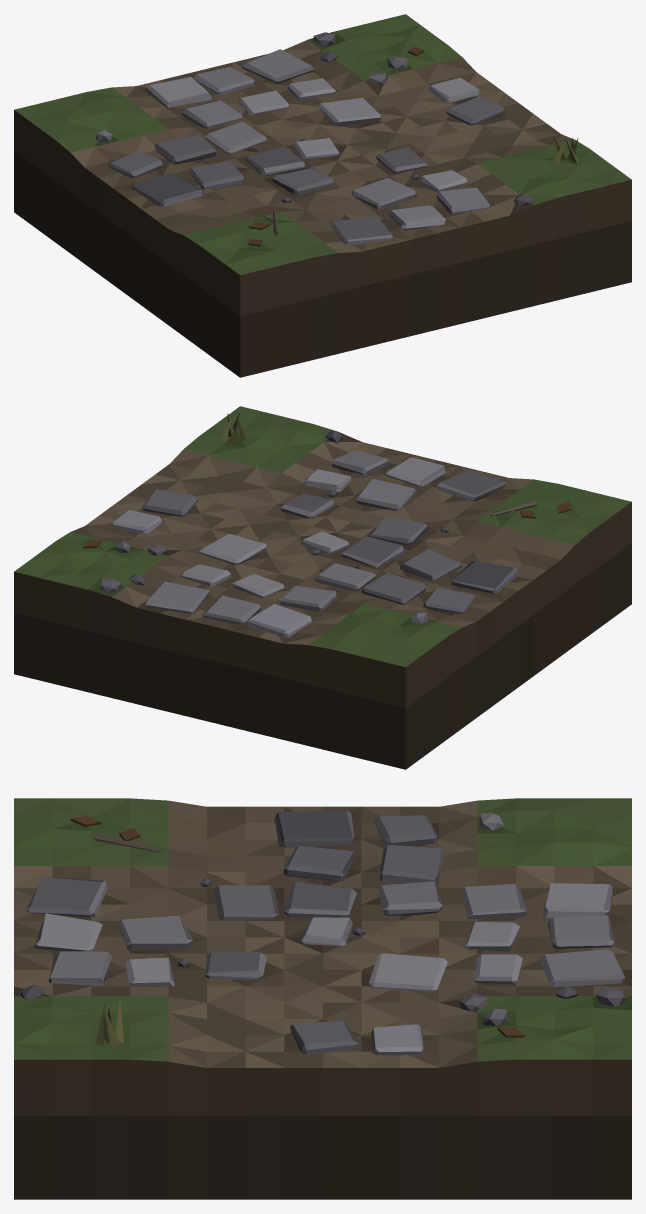
Rendered from haunt_road_cross.glb.
The picture shows the model from 3 angles, top to bottom: view 1: azimuth 30°, elevation 25°; view 2: azimuth 150°, elevation 25°; view 3: azimuth 270°, elevation 25°; orthographic projection. The views are drawn at different scales.
Parts seen in each view (by area): view 1: HauntRoadCross; view 2: HauntRoadCross; view 3: HauntRoadCross.
Part boxes in pixels (box(x1,y1,x2,y2)): HauntRoadCross: box(14, 14, 631, 377); HauntRoadCross: box(14, 406, 631, 769); HauntRoadCross: box(14, 798, 631, 1199).
Size of the model in its own units: 2 by 0.6311 by 2.
